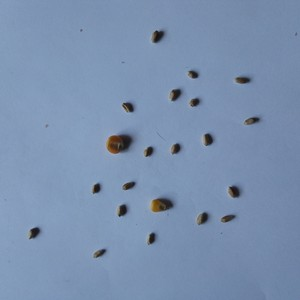maiz: (103, 131, 125, 156), (148, 196, 170, 215)
trigo: (242, 115, 263, 127), (201, 131, 215, 149), (119, 100, 135, 115), (92, 246, 109, 260), (120, 179, 138, 192), (226, 185, 241, 200), (220, 212, 235, 226), (25, 226, 39, 241), (144, 231, 157, 247), (149, 29, 162, 44), (143, 145, 155, 161), (168, 142, 181, 156), (115, 203, 128, 217), (195, 211, 208, 225), (232, 74, 248, 85), (186, 69, 201, 80), (167, 88, 179, 101), (188, 97, 202, 108), (91, 182, 100, 196)
